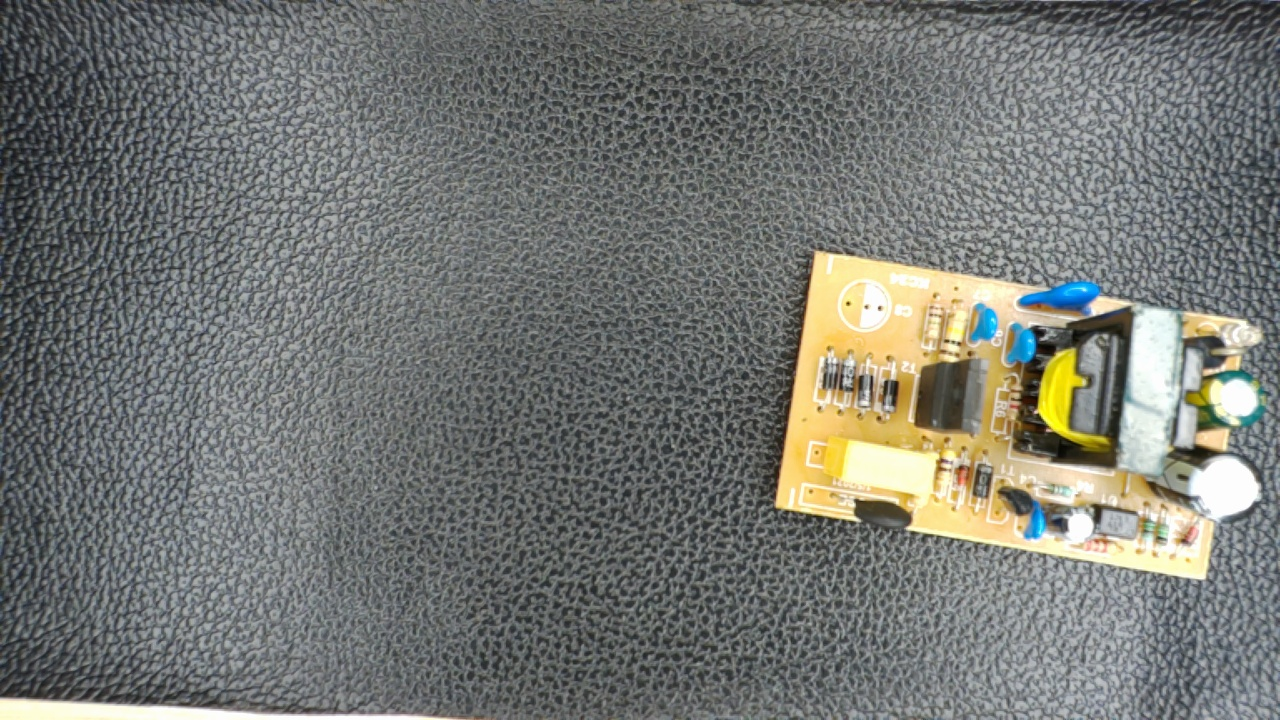fuse: (825, 489, 921, 533)
mov: (1013, 275, 1098, 323)
optocoupler: (1091, 500, 1143, 546)
